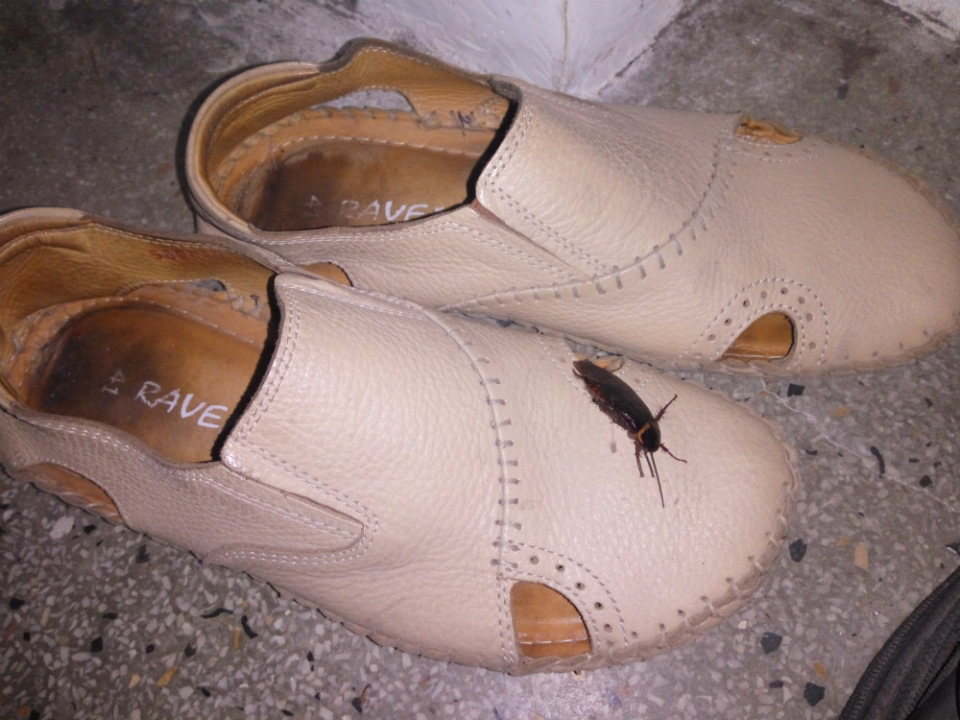cockroach: (528, 341, 694, 486)
